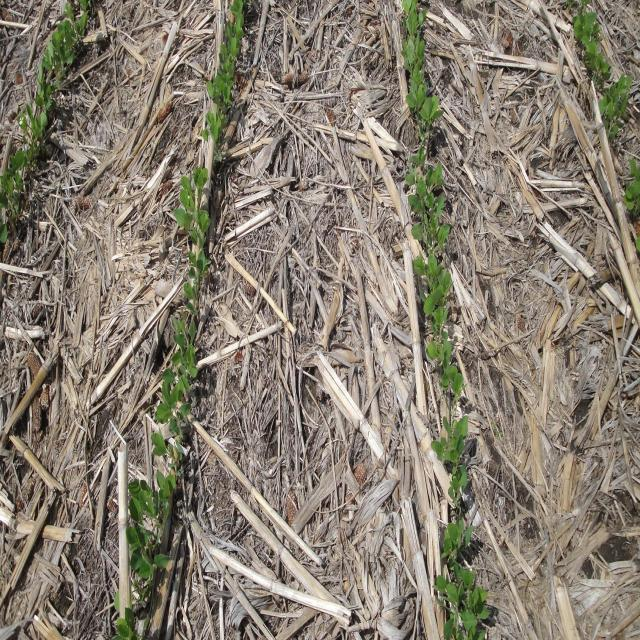row: (159, 0, 446, 640), (0, 0, 230, 640), (425, 0, 640, 640), (594, 0, 640, 141)
